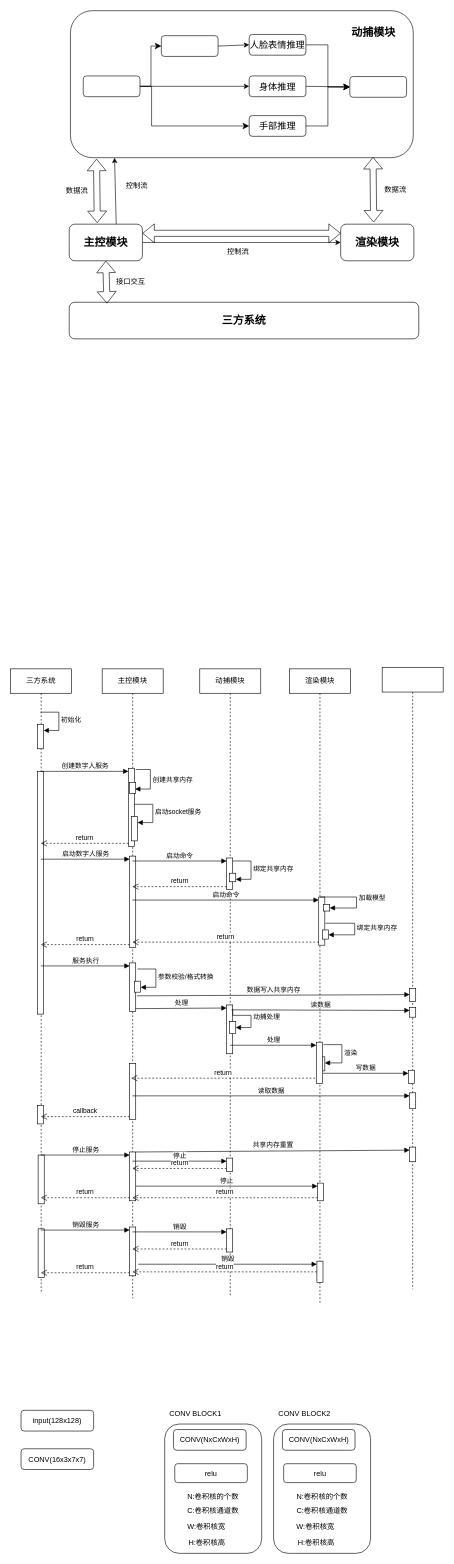
This 454x1564 diagram has some shape labels left out. The shapes that lost their labels are listed below. From the top down, each one's box as (x1, y1, x2, y2) in pixels, then its label:
(161, 35, 218, 56): 头部姿态推理
(83, 75, 140, 97): 目标检测
(349, 76, 407, 97): 后处理
(382, 667, 443, 1289): 共享内存
